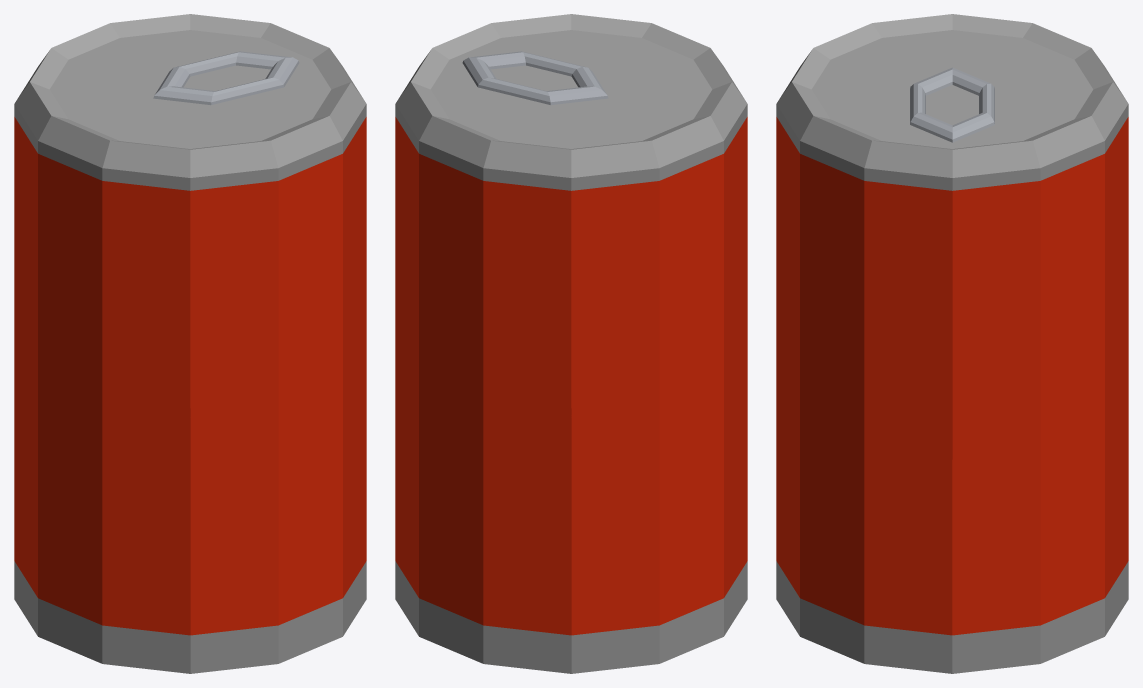
Rendered from beer can.fbx.
The picture shows the model from 3 angles, left to right: view 1: azimuth 30°, elevation 25°; view 2: azimuth 150°, elevation 25°; view 3: azimuth 270°, elevation 25°; orthographic projection.
Visible parts, largest first — view 1: Cylinder, Torus; view 2: Cylinder, Torus; view 3: Cylinder, Torus.
Boxes of the visible parts, bbox=[...] form: Cylinder: bbox=[14, 14, 366, 673]; Torus: bbox=[153, 51, 299, 105]; Cylinder: bbox=[395, 14, 747, 673]; Torus: bbox=[462, 51, 608, 105]; Cylinder: bbox=[776, 14, 1128, 673]; Torus: bbox=[910, 67, 994, 142].
Bounding box in the file's own units: 11.38 × 18.51 × 11.38.
